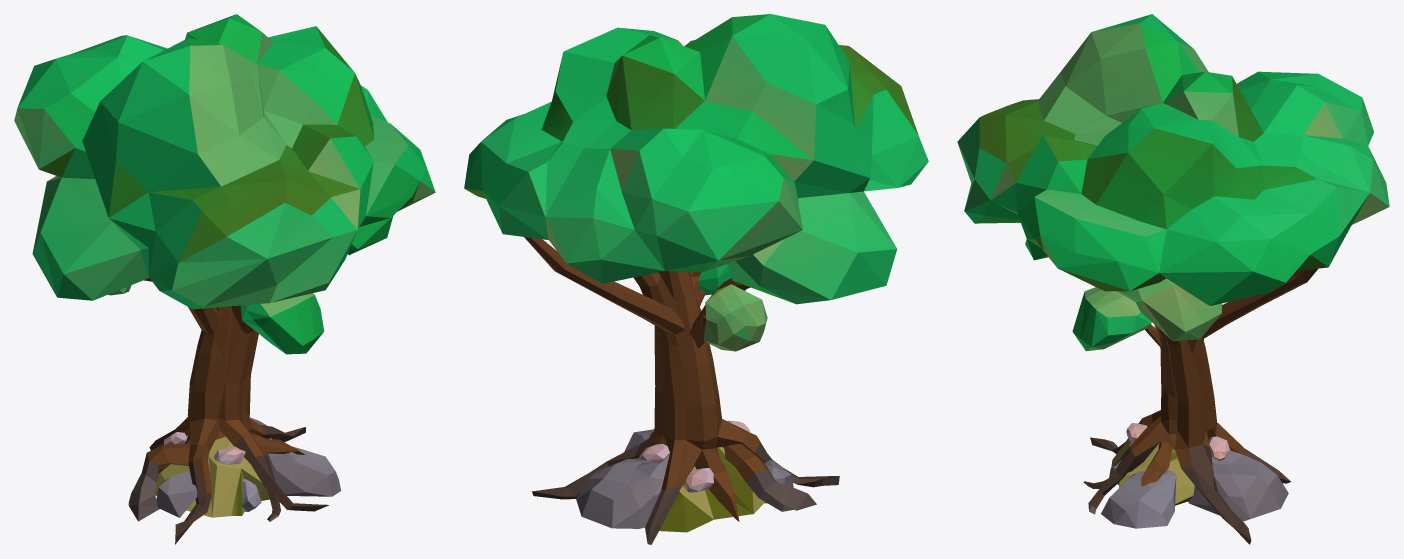
Rendered from tree.glb.
3 renders of one model, left to right at view 1: azimuth 30°, elevation 25°; view 2: azimuth 150°, elevation 25°; view 3: azimuth 270°, elevation 25°, orthographic. The views are drawn at different scales.
Visible parts, largest first — view 1: TreeFull; view 2: TreeFull; view 3: TreeFull.
Boxes of the visible parts, left/top/right/bottom form: TreeFull: left=14, top=14, right=435, bottom=544; TreeFull: left=464, top=14, right=928, bottom=544; TreeFull: left=957, top=14, right=1389, bottom=544.
Size of the model in its own units: 0.846 by 1.06 by 0.9386.
Materials: 1 (1 with a texture image).
